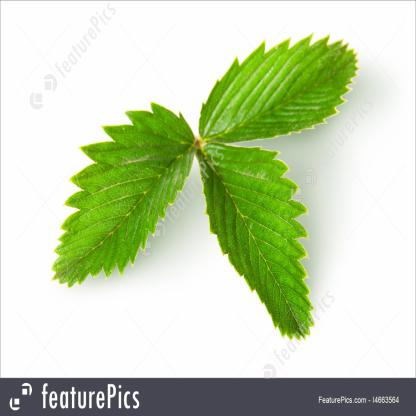strawberry leaf: (48, 98, 197, 297), (198, 129, 324, 349), (199, 16, 364, 147)
